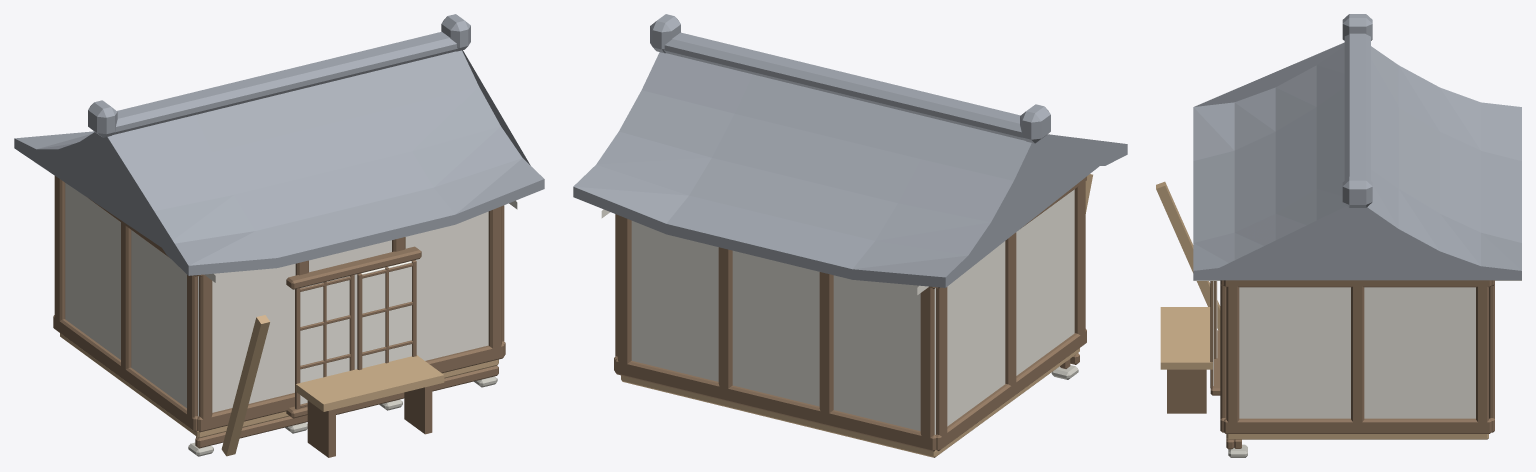
File: carpenter-shop.glb
3 renders of one model, left to right at view 1: azimuth 30°, elevation 25°; view 2: azimuth 150°, elevation 25°; view 3: azimuth 270°, elevation 25°, orthographic. The views are drawn at different scales.
Visible parts, largest first — view 1: carpenter-shop; view 2: carpenter-shop; view 3: carpenter-shop.
Boxes of the visible parts, x1=… form: carpenter-shop: x1=14, y1=14, x2=544, y2=457; carpenter-shop: x1=573, y1=14, x2=1127, y2=457; carpenter-shop: x1=1156, y1=14, x2=1521, y2=457.
Size of the model in its own units: 6.2 by 4.94 by 5.57.
